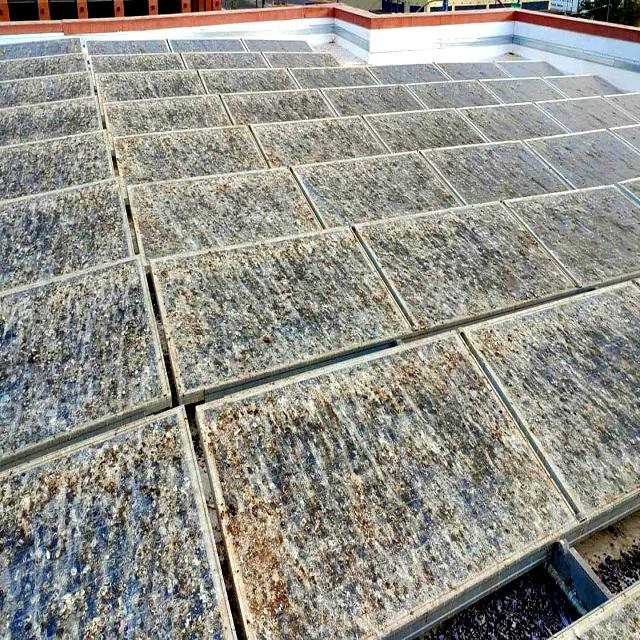bird: (94, 450, 172, 580), (203, 412, 304, 508), (349, 384, 444, 482), (283, 242, 366, 322), (200, 268, 272, 360), (506, 296, 581, 384), (466, 448, 540, 521), (82, 294, 146, 375), (562, 418, 626, 484), (392, 233, 462, 290), (252, 535, 312, 591), (170, 196, 247, 236), (31, 215, 77, 253)
